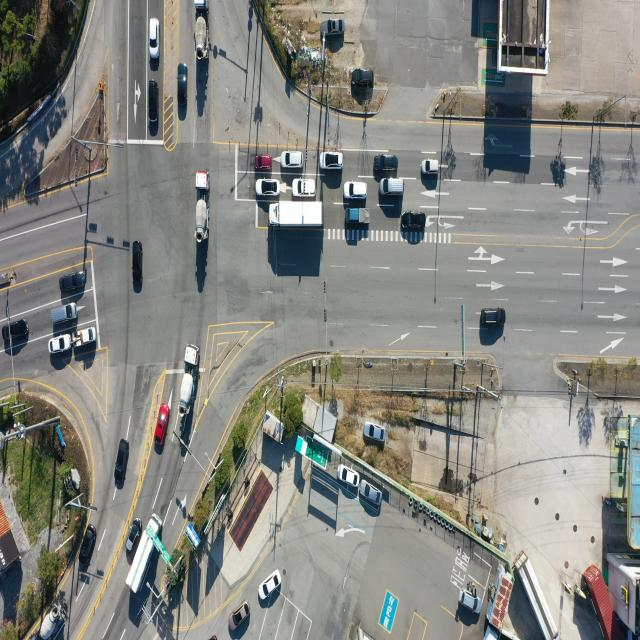car: (77, 524, 99, 568), (117, 437, 131, 488), (154, 404, 169, 451), (147, 78, 159, 133), (260, 570, 281, 601), (459, 588, 482, 615), (231, 602, 251, 633), (361, 482, 383, 508), (2, 320, 27, 342), (60, 273, 86, 294), (51, 302, 77, 323), (178, 62, 189, 109), (128, 519, 143, 552), (338, 464, 360, 486), (321, 150, 345, 170), (133, 241, 143, 287), (51, 336, 74, 356), (292, 178, 316, 197), (379, 178, 404, 196), (363, 422, 385, 442), (256, 178, 279, 197), (351, 67, 374, 86), (483, 307, 507, 325), (403, 212, 427, 230), (372, 153, 396, 171), (149, 19, 159, 59), (344, 181, 366, 199), (282, 150, 304, 168), (327, 17, 347, 34), (420, 160, 440, 175), (256, 156, 274, 171)
medium_truck: (520, 549, 562, 638), (127, 514, 164, 595), (269, 202, 323, 230), (182, 339, 200, 413), (193, 170, 209, 244), (193, 0, 210, 60), (39, 602, 62, 640)
small_truck: (74, 326, 98, 345), (347, 207, 371, 225)
